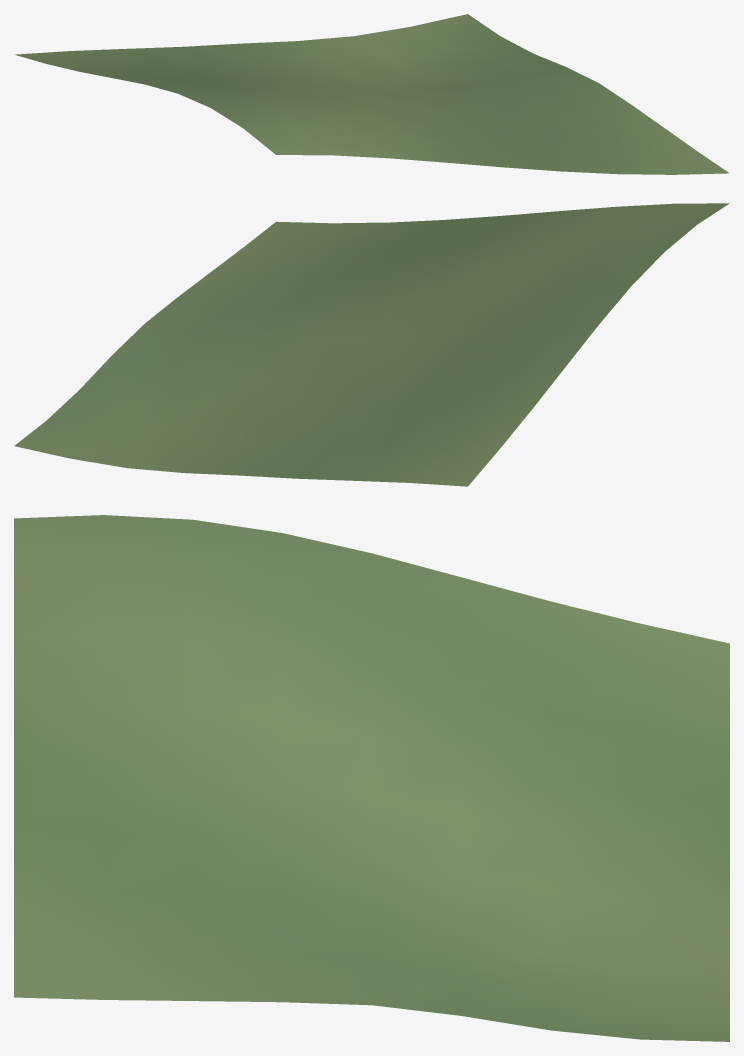
The model's file is Terrain-2-5-1.glb.
3 views of the same model, one above another, from view 1: azimuth 30°, elevation 25°; view 2: azimuth 150°, elevation 25°; view 3: azimuth 270°, elevation 25° (orthographic). The views are drawn at different scales.
Parts seen in each view (by area): view 1: Terrain-2-5-1; view 2: Terrain-2-5-1; view 3: Terrain-2-5-1.
Boxes of the visible parts, left/top/right/bottom form: Terrain-2-5-1: left=15, top=14, right=729, bottom=174; Terrain-2-5-1: left=14, top=203, right=729, bottom=486; Terrain-2-5-1: left=14, top=515, right=729, bottom=1041.
Bounding box in the file's own units: 6 × 2.07 × 6.
